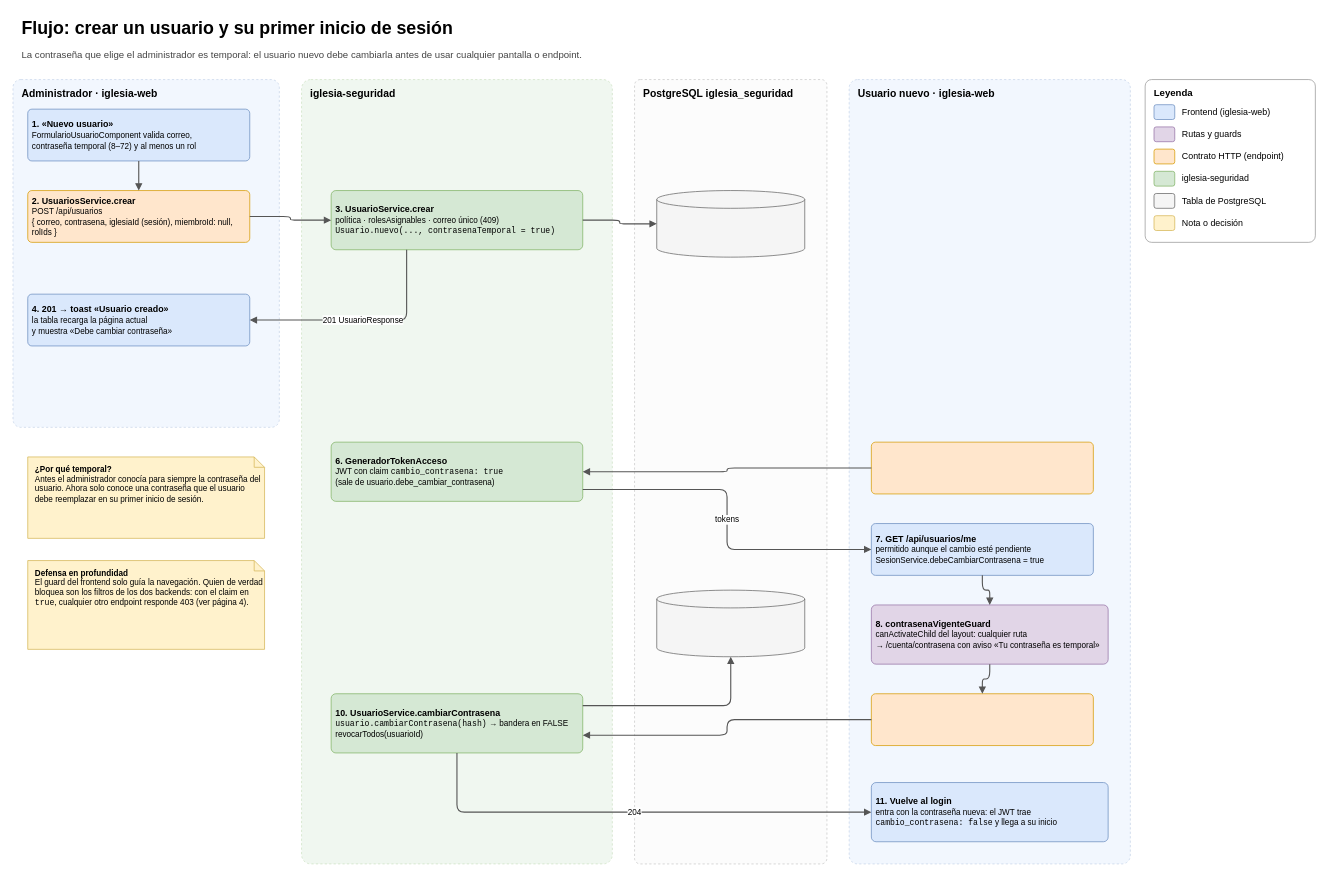
Image size: 1328x877. Some labels were removed from this diagram. Each missing label, with the centre of its shape:
5. Login con la contraseña temporal POST /api/auth/login: (x=982, y=467)
9. PUT /api/usuarios/me/contrasena contraseña actual + nueva: (x=982, y=719)
usuario / token_refresco debe_cambiar_contrasena = FALSE tokens revocados: (x=730, y=623)
usuario INSERT debe_cambiar_contrasena = TRUE: (x=730, y=223)
